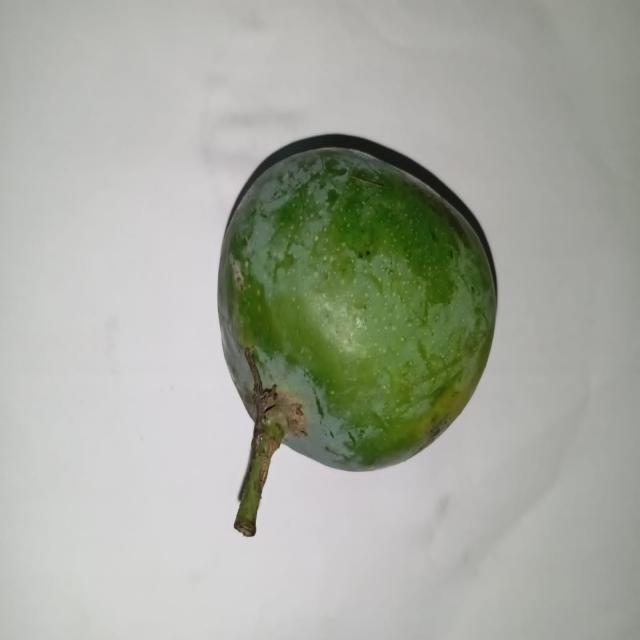rotten_mango: (220, 143, 493, 473)
